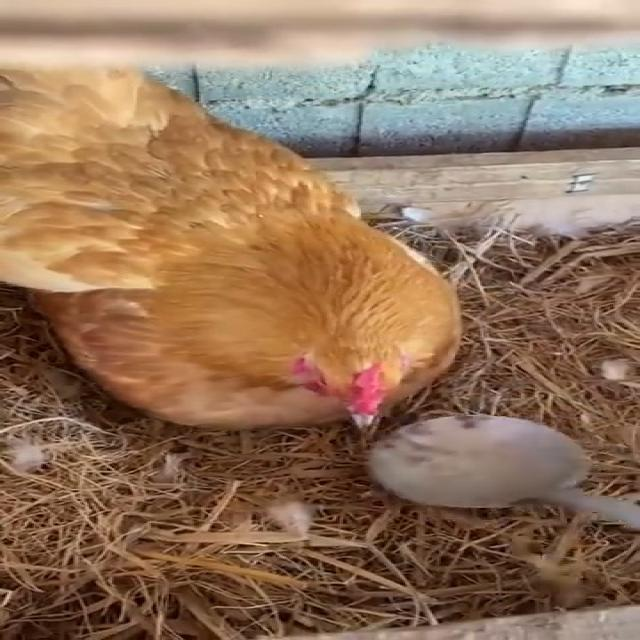crouch chicken: (0, 38, 544, 454)
